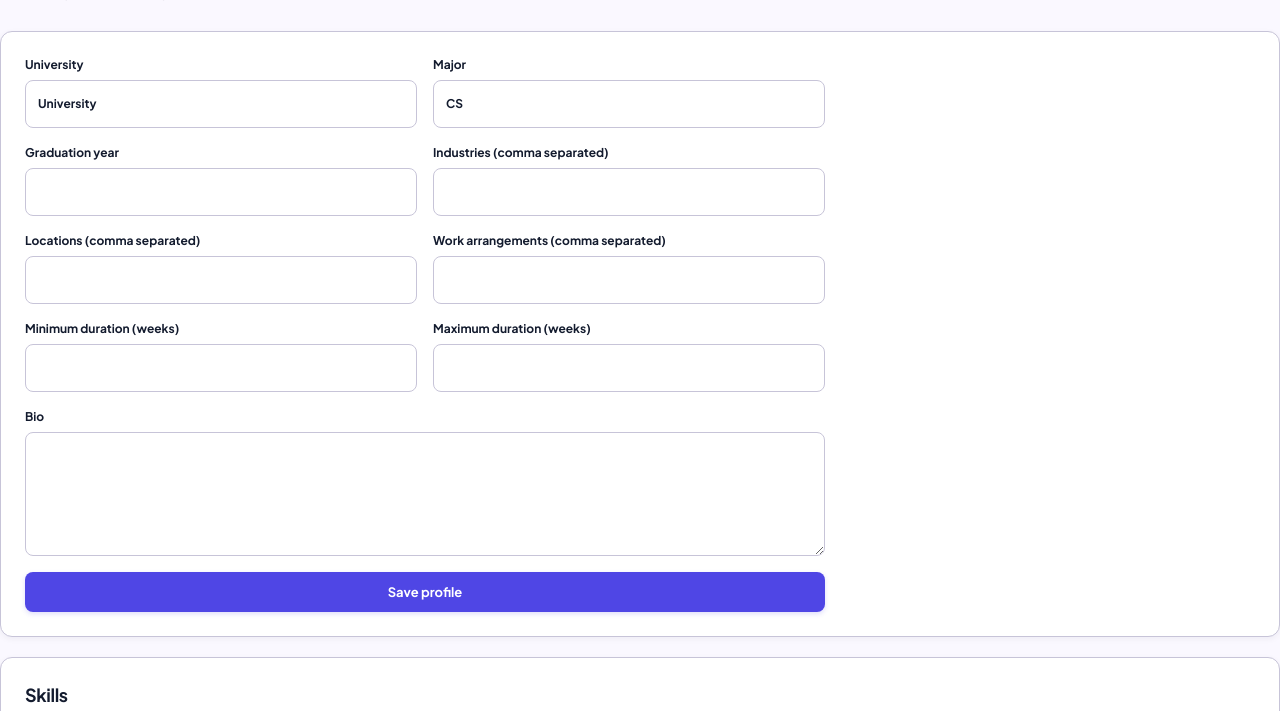
Test: loads and saves profile preferences and surfaces a retained-document deletion error
Step 1. Type "Tech" into the field labelled "Industries (comma separated)" → (629, 192), box [433, 168, 825, 216]
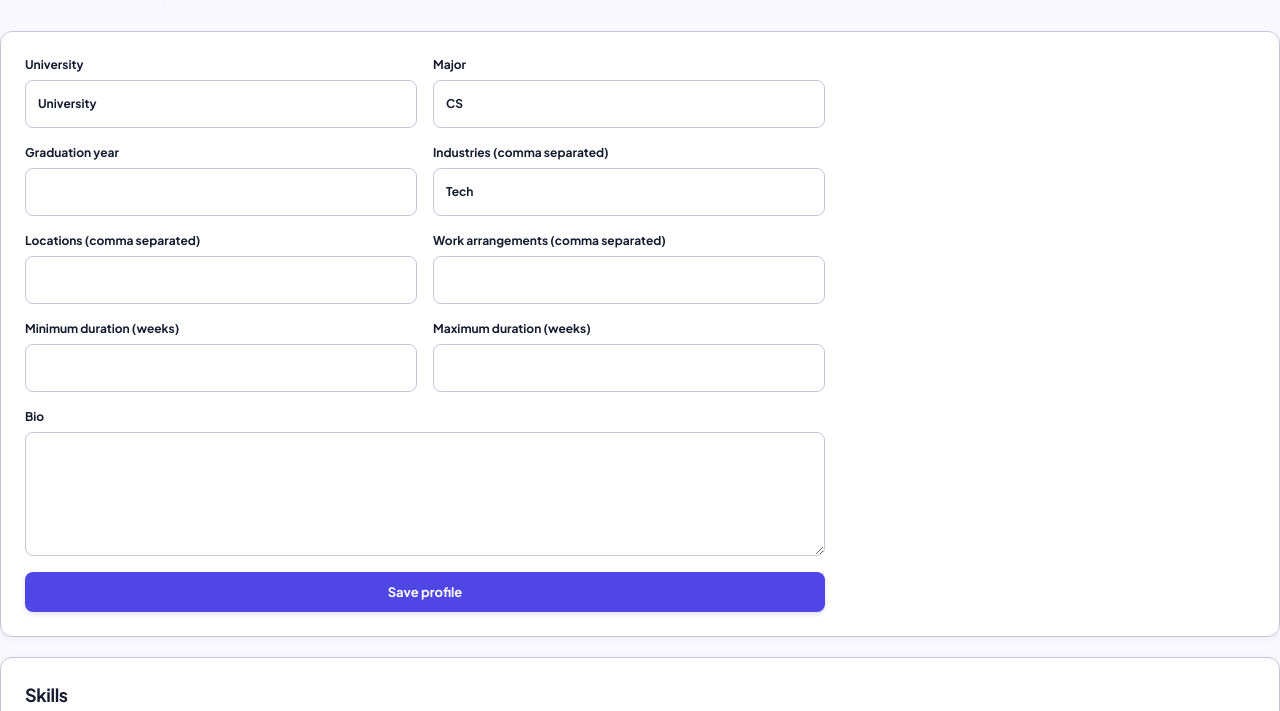
Step 2. Type "2027" into the number field labelled "Graduation year" → (221, 192), box [25, 168, 417, 216]
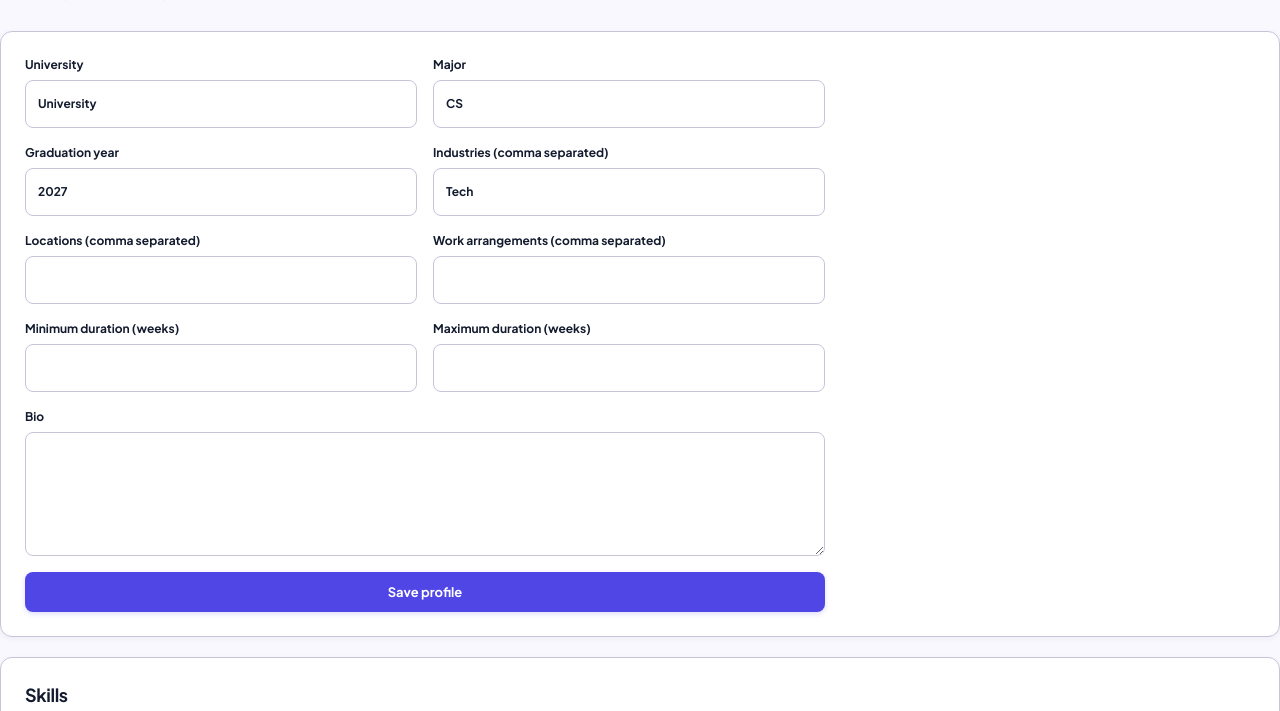
Step 3. Click the button "Save profile" → (425, 592), box [25, 572, 825, 612]
(page scrolled)
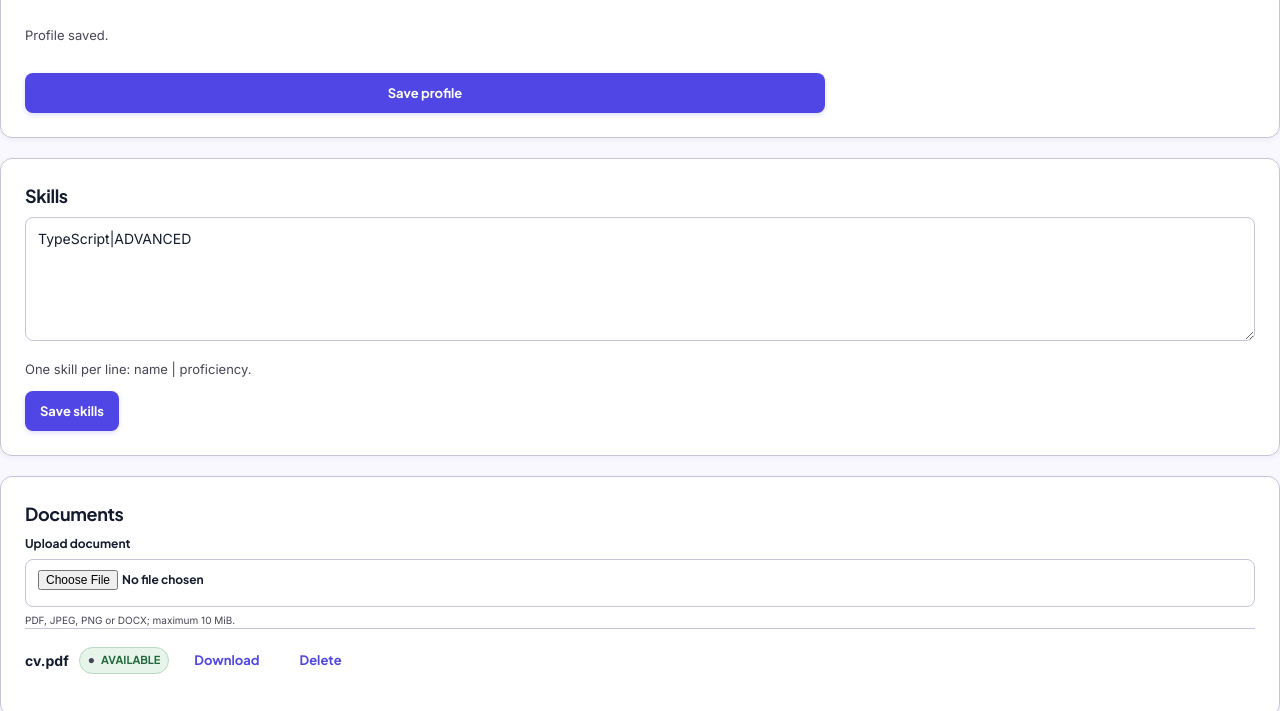
Expected: the text "Profile saved." is shown, [25, 27, 108, 43]
Step 4. Click the button "Delete" → (321, 660), box [284, 640, 357, 680]
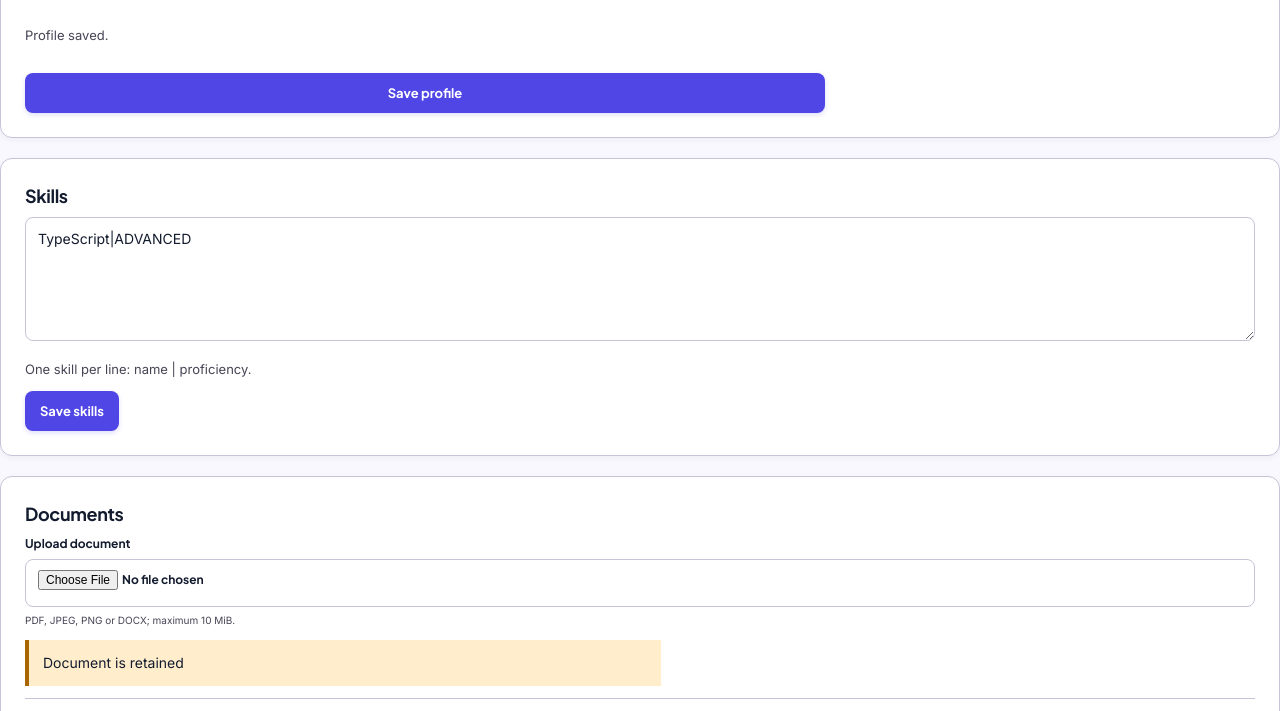
Expected: the message reads "Document is retained", [43, 654, 184, 671]
